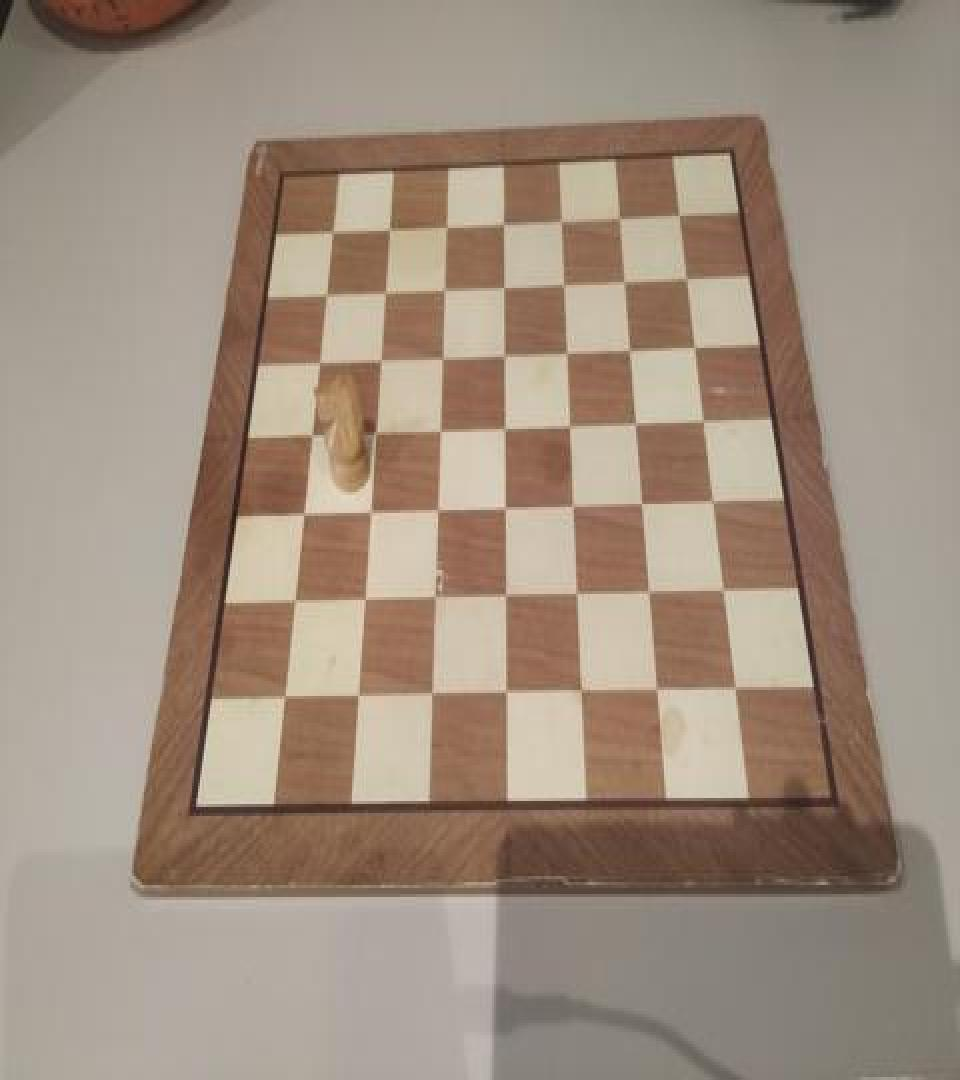xcorner: (670, 199, 690, 230), (346, 681, 366, 711), (420, 680, 440, 710), (494, 680, 514, 710), (570, 678, 590, 708), (646, 678, 666, 708), (723, 676, 743, 706), (282, 585, 302, 615), (353, 585, 373, 615), (423, 584, 443, 614), (494, 582, 514, 612), (639, 579, 659, 609), (712, 578, 732, 608), (292, 498, 312, 528), (359, 496, 379, 526), (426, 495, 446, 525), (494, 494, 514, 524), (563, 492, 583, 522), (632, 490, 652, 520), (702, 488, 722, 518), (301, 417, 321, 447), (365, 416, 385, 446), (429, 414, 449, 444), (494, 412, 514, 442), (560, 410, 580, 440), (626, 408, 646, 438), (693, 406, 713, 436), (309, 344, 329, 374), (370, 342, 390, 372), (432, 340, 452, 370), (494, 338, 514, 368), (557, 336, 577, 366), (621, 333, 641, 363), (684, 332, 704, 362), (316, 276, 336, 306), (375, 274, 395, 304), (435, 272, 455, 302), (494, 270, 514, 300), (555, 267, 575, 297), (616, 266, 636, 296), (677, 262, 697, 292), (323, 213, 343, 243), (380, 212, 400, 242), (437, 208, 457, 238), (494, 207, 514, 237), (552, 204, 572, 234), (611, 201, 631, 231), (272, 683, 292, 712), (566, 581, 586, 610)
